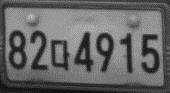1: (118, 31, 134, 72)
2: (29, 29, 48, 71)
4: (73, 30, 94, 72)
5: (141, 33, 159, 74)
8: (8, 29, 27, 69)
9: (94, 32, 114, 72)
다: (50, 38, 70, 71)
